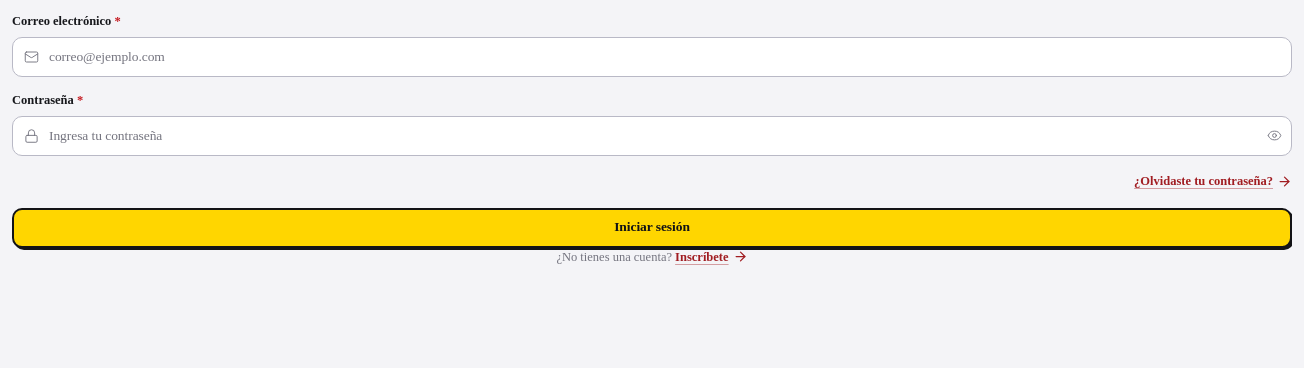
Test case: LoginPage › failed submission › names the 15-minute cooldown and links to password recovery, with no toast
This screenshot has width=1304, height=368.
Type "user@cataclub.com" into the field labelled "Correo electrónico *" at (652, 57), box [12,37,1292,77]
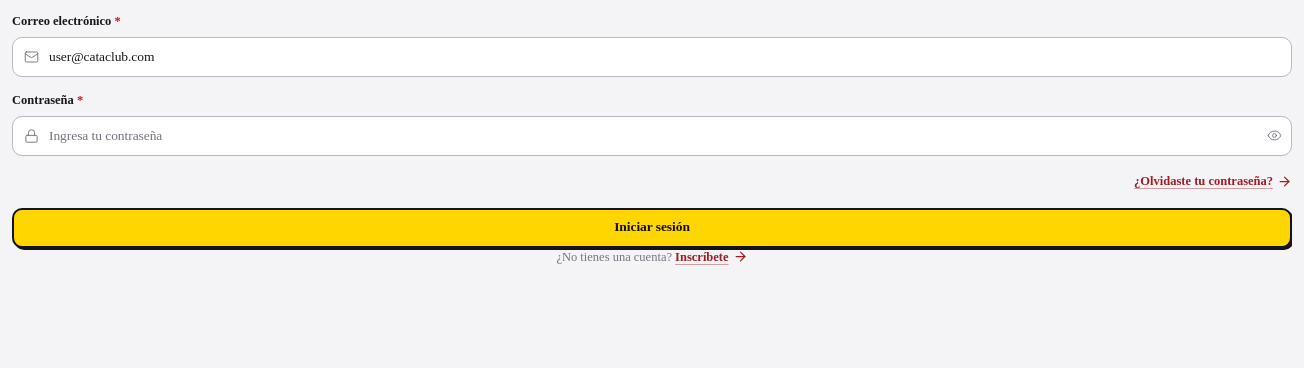
Type "secret123" into the password field labelled "Contraseña *" at (652, 136), box [12,116,1292,156]
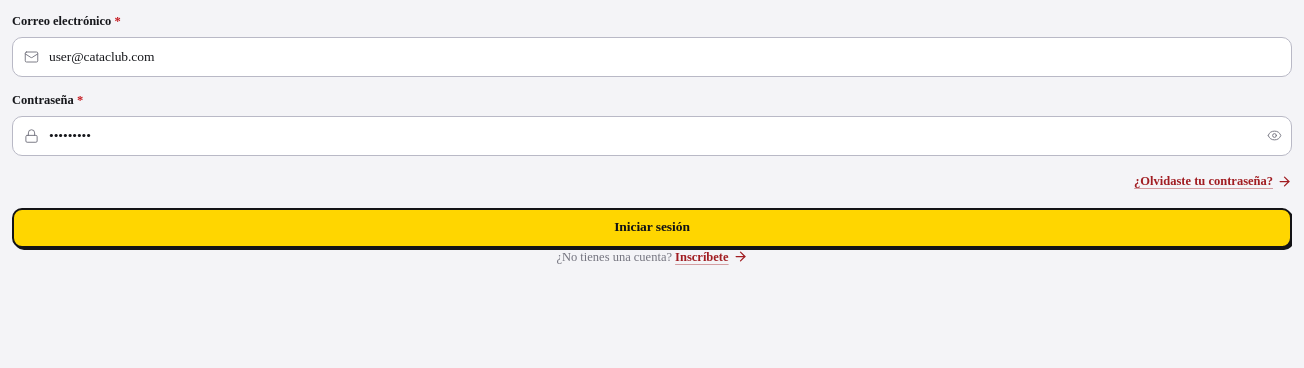
Click the button "Iniciar sesión" at (652, 228), box [12,208,1292,248]
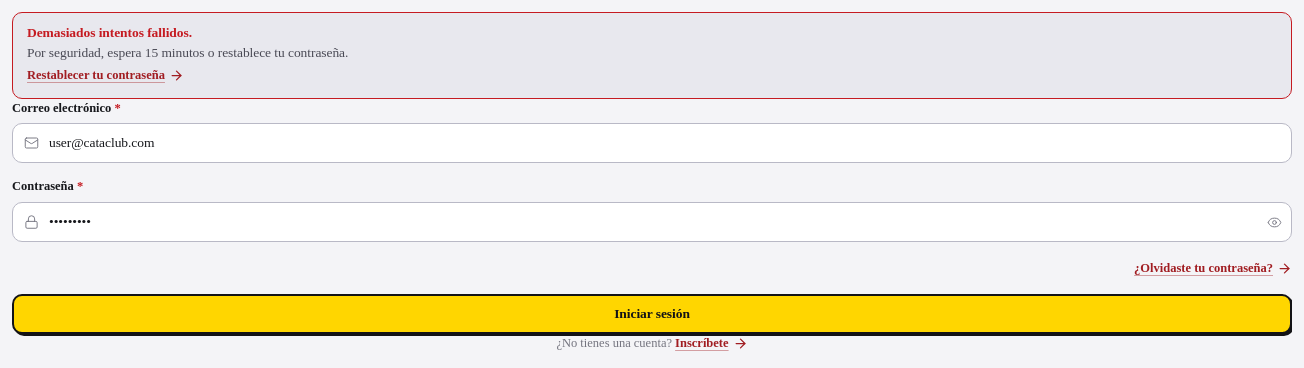
Check: the text "Demasiados intentos fallidos." is shown, box [27,25,192,40]
Check: the text "Por seguridad, espera 15 minutos o restablece tu contraseña." is shown, box [27,45,348,60]
